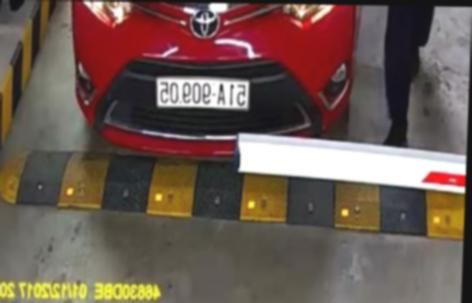License_Plate: (153, 70, 252, 117)
